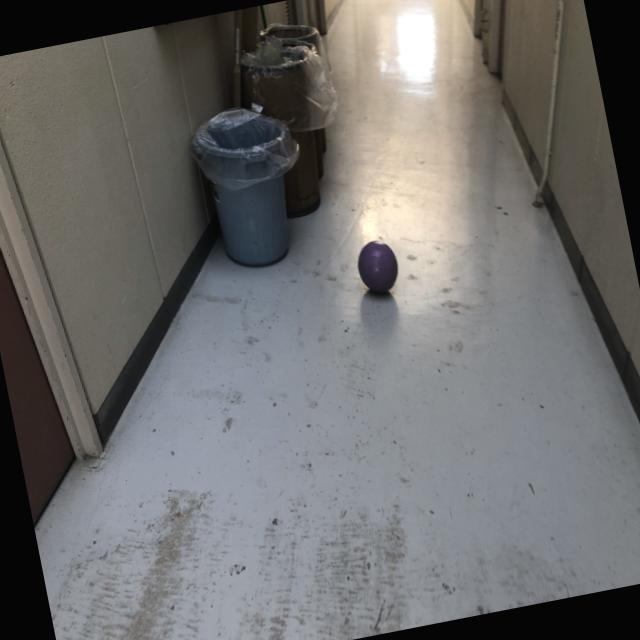purple_ball: (353, 238, 402, 293)
